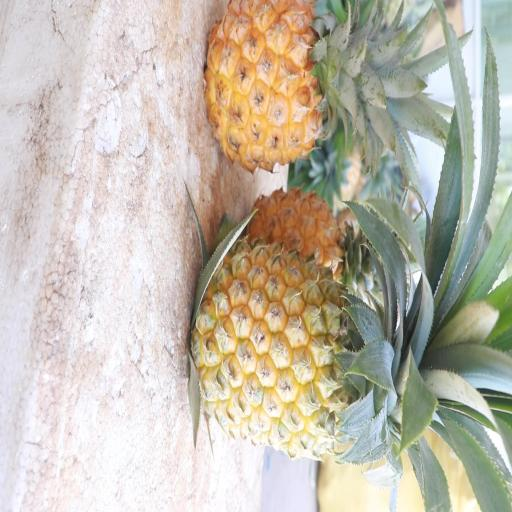Pineapple - v8 v1: (189, 239, 443, 469), (200, 0, 383, 176), (244, 179, 374, 294)
